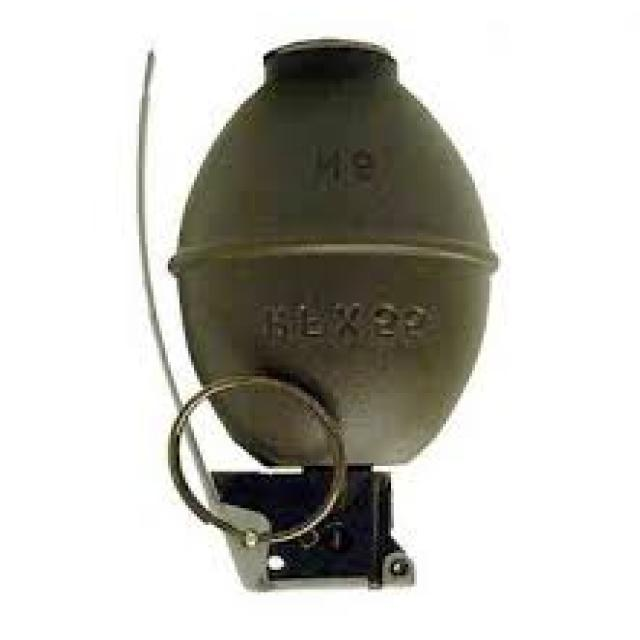grenade: (124, 33, 505, 613)
